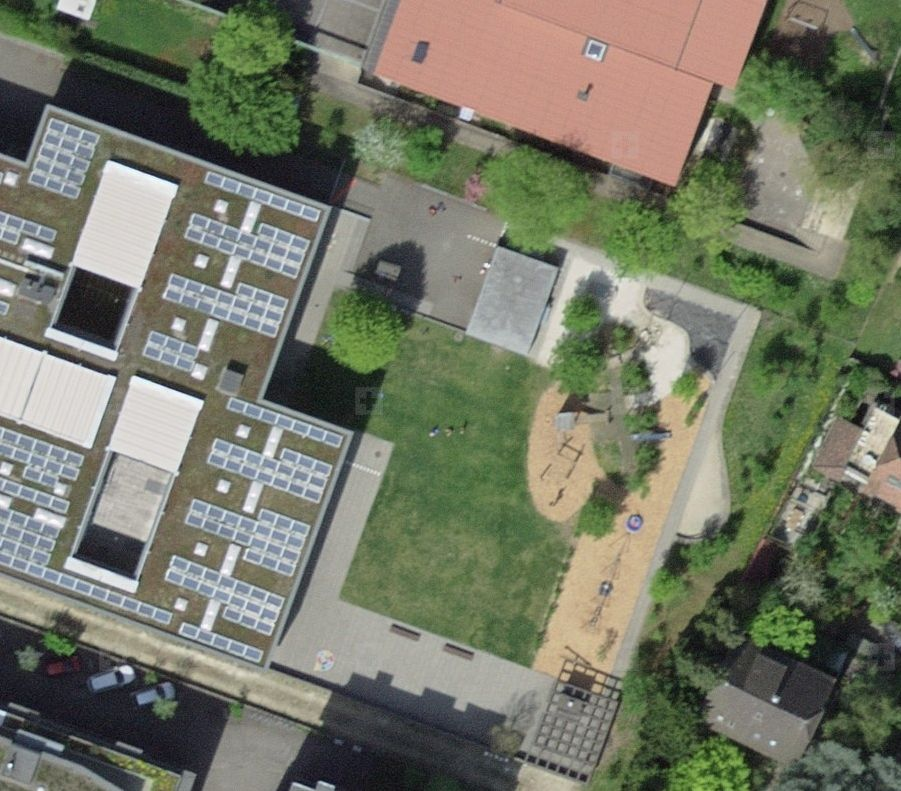solar: (1, 116, 347, 668)
